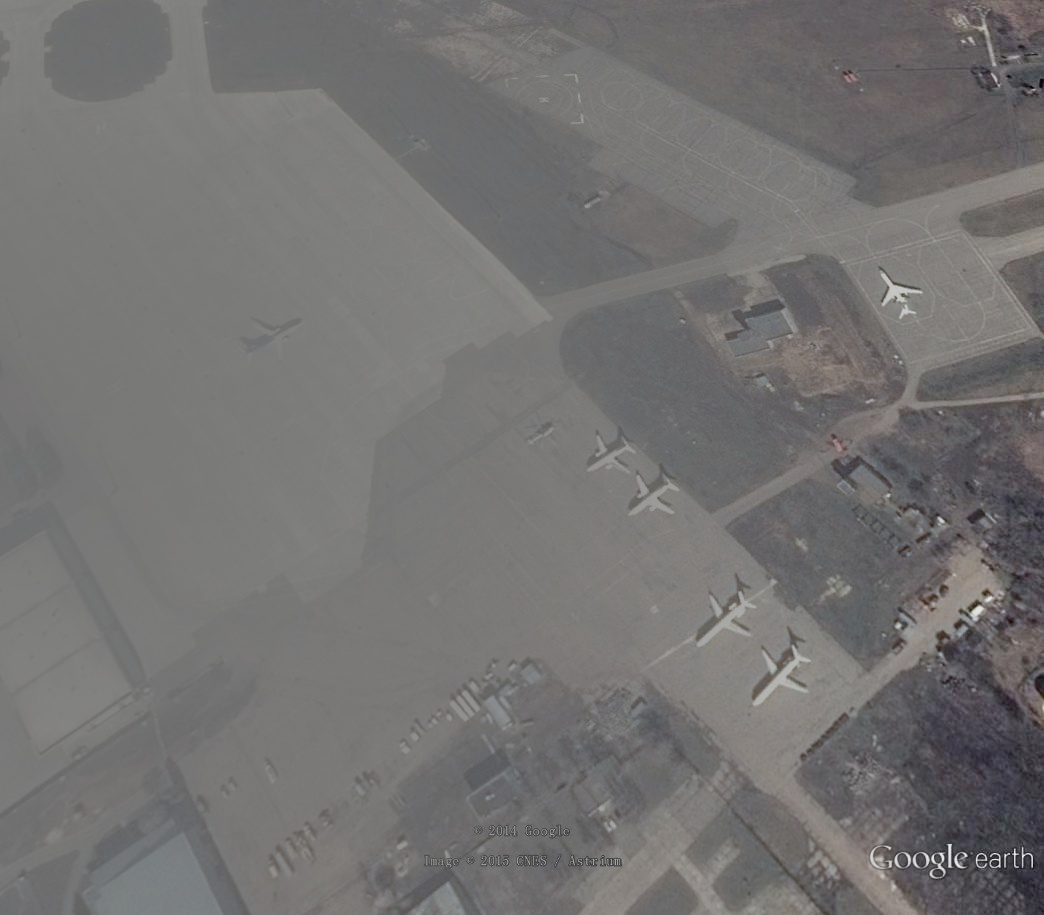aircraft: (750, 641, 814, 710), (694, 589, 760, 650), (238, 317, 307, 365), (876, 265, 927, 321), (627, 470, 684, 520), (583, 431, 639, 478)
